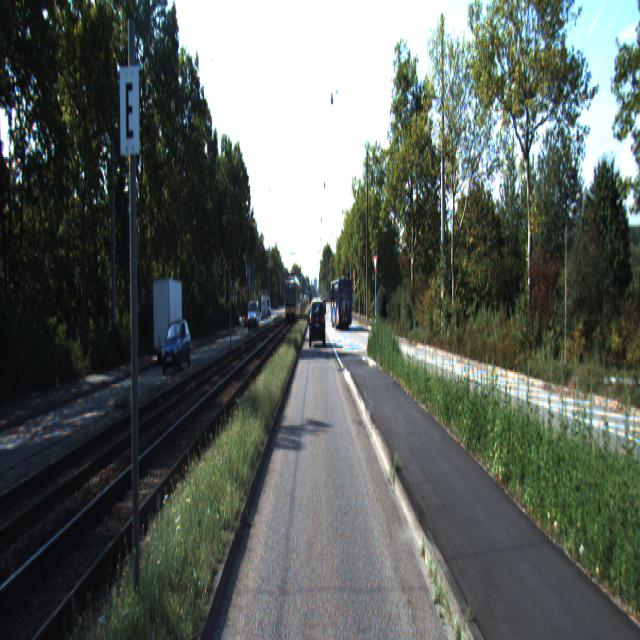Car: (152, 280, 184, 369), (160, 320, 192, 376), (330, 278, 352, 331), (309, 302, 324, 350)
